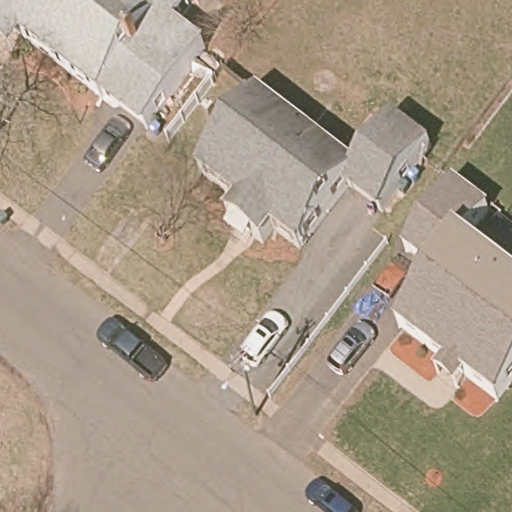DT: (220, 345, 261, 415)
